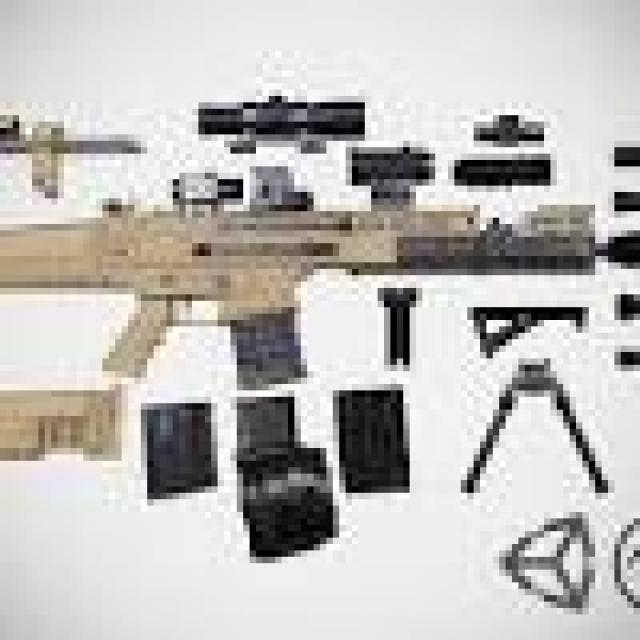Gun: (0, 116, 640, 365)
